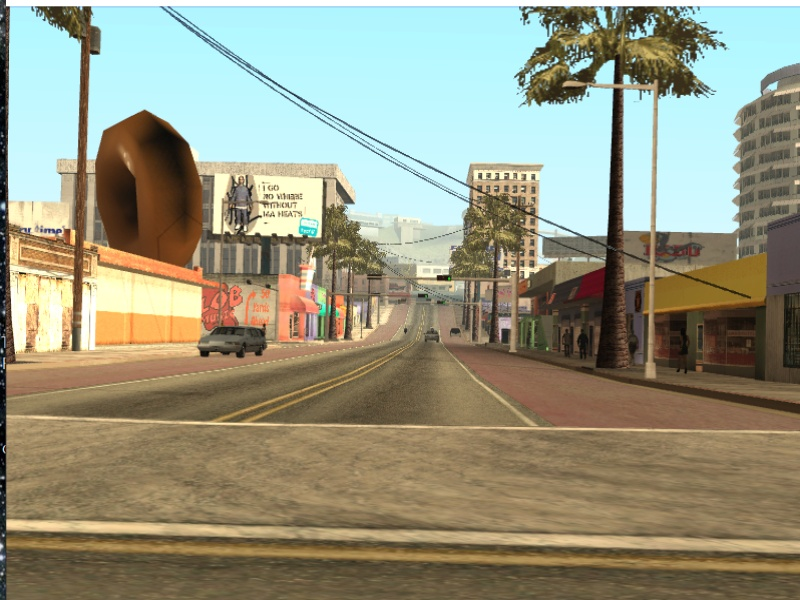person: (677, 330, 693, 375), (557, 327, 572, 357), (578, 329, 588, 358)
pole: (74, 40, 93, 353), (644, 96, 661, 380), (506, 272, 522, 356), (476, 302, 485, 346)
tree: (608, 59, 632, 371), (490, 243, 503, 348), (329, 251, 339, 342), (343, 262, 353, 339), (366, 268, 374, 328)
vehicle: (193, 325, 270, 358), (423, 328, 440, 344), (450, 328, 464, 341)
